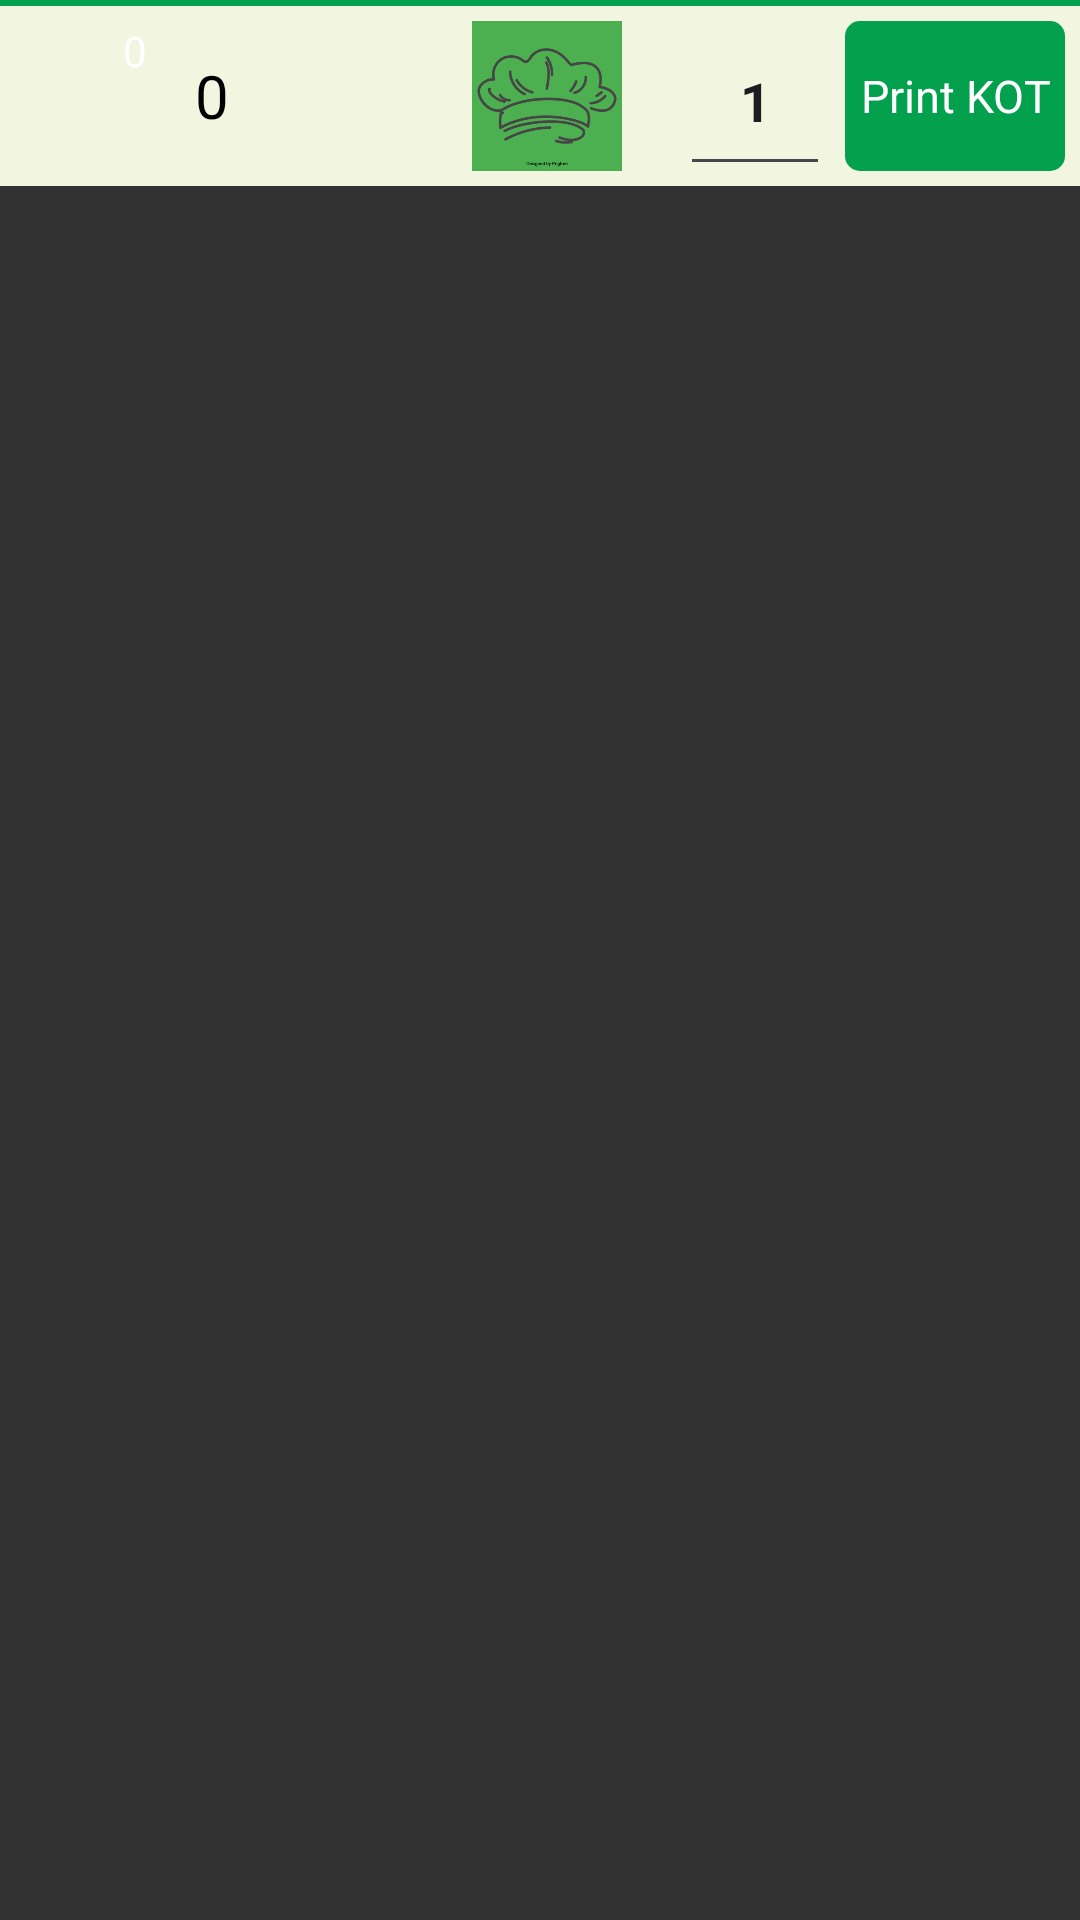

Screen size 1080×1920. Icon name, then its center in pixels as point (x, y):
kotcap: point (547, 96)
